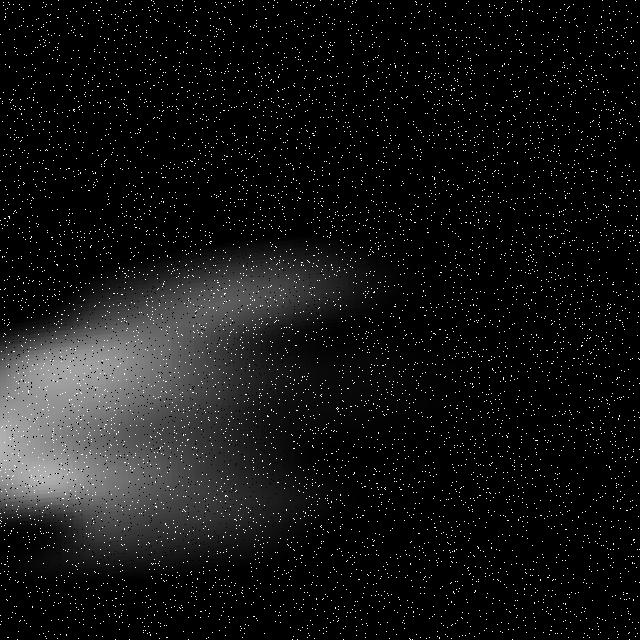person: (1, 253, 454, 568)
